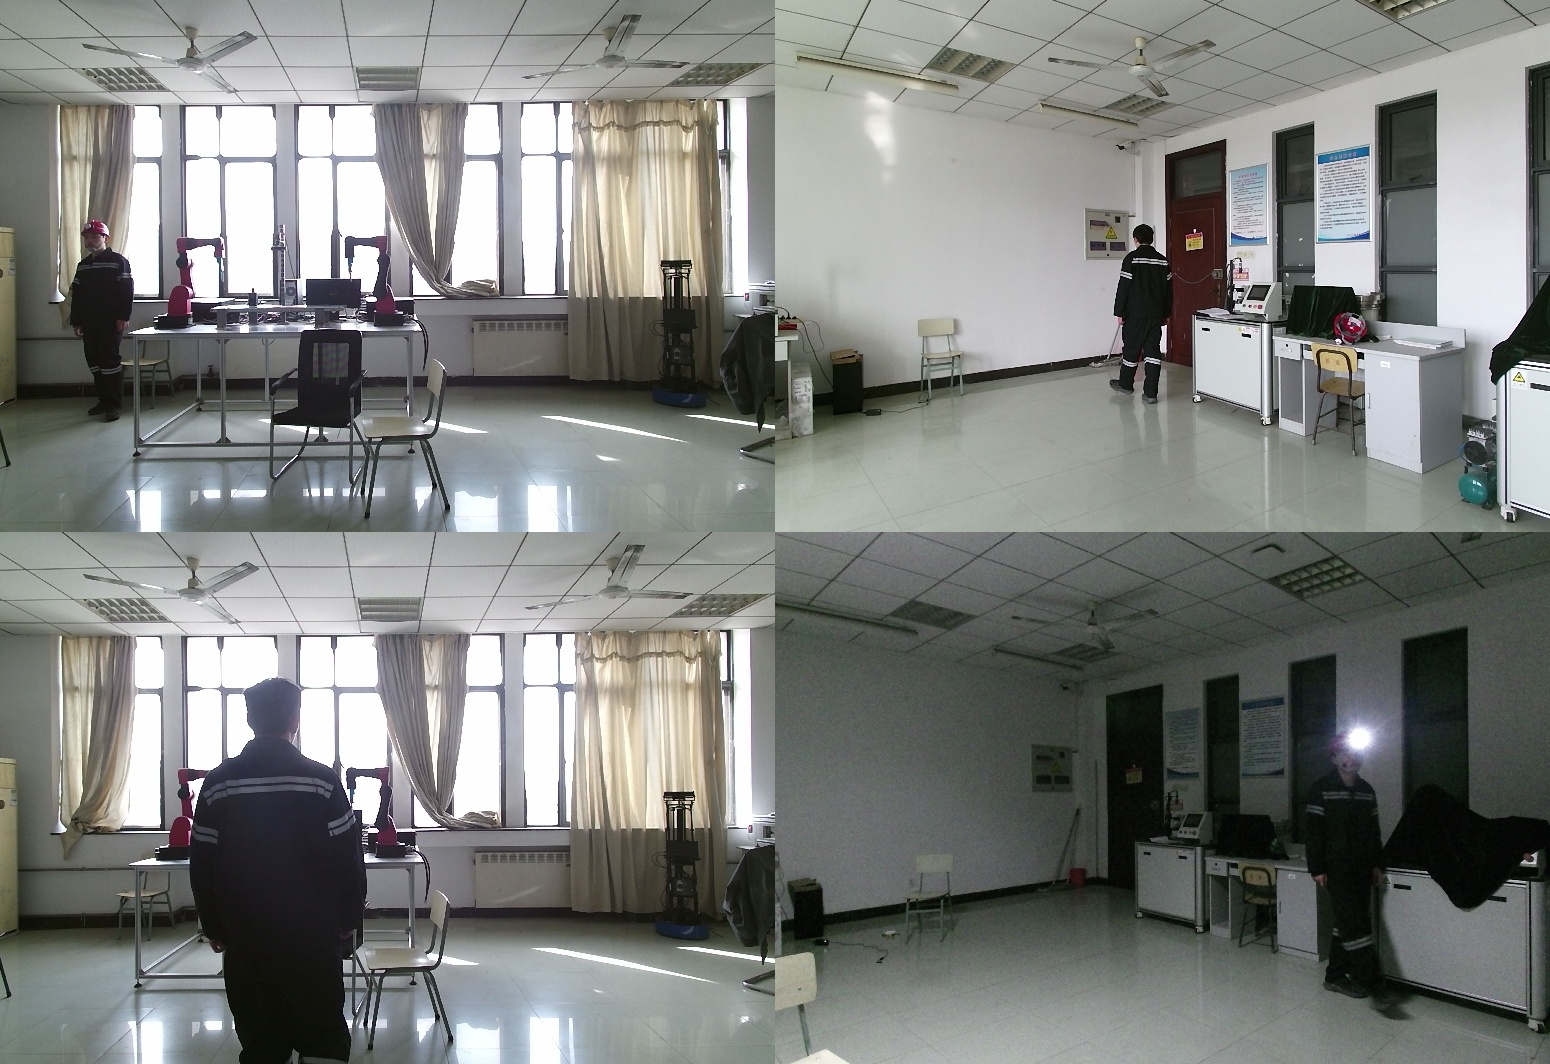person: (192, 679, 370, 1064), (1297, 730, 1393, 1008), (59, 222, 133, 422), (1111, 226, 1179, 410)
